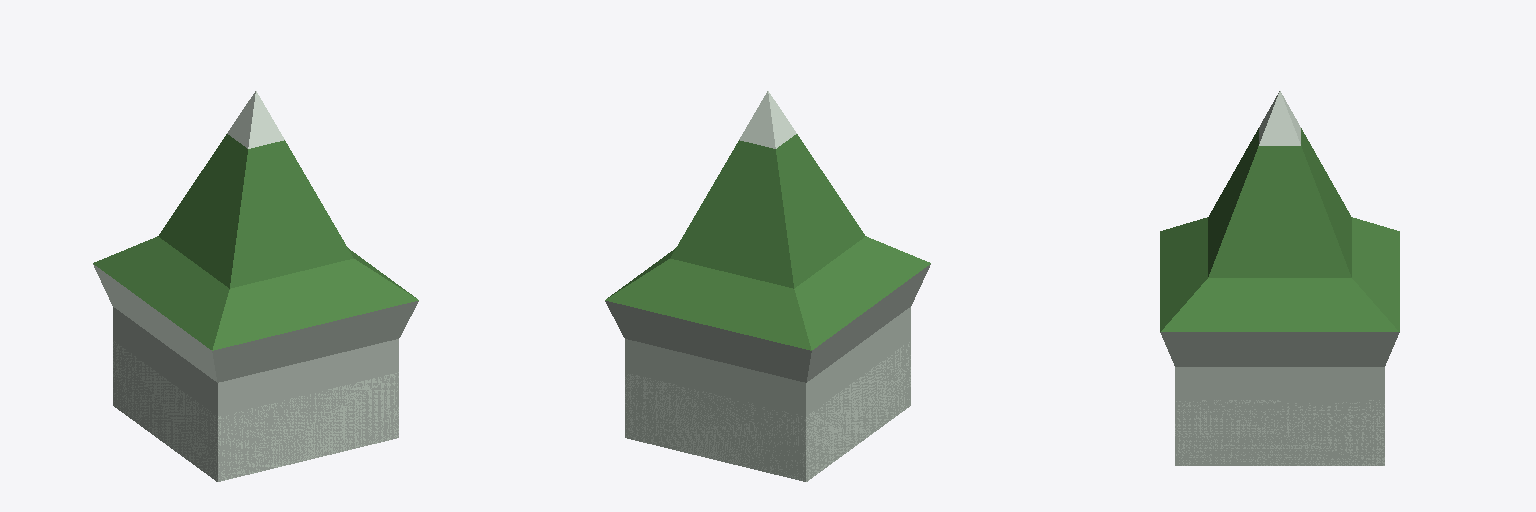
The model's file is tile_022.obj.
3 views of the same model, side by side, from view 1: azimuth 30°, elevation 25°; view 2: azimuth 150°, elevation 25°; view 3: azimuth 270°, elevation 25° (orthographic).
Parts seen in each view (by area): view 1: tile_022; view 2: tile_022; view 3: tile_022.
Part boxes in pixels (bbox=[...]): tile_022: bbox=[93, 91, 418, 481]; tile_022: bbox=[605, 91, 930, 481]; tile_022: bbox=[1160, 91, 1399, 465].
Size of the model in its own units: 0.6727 by 1.03 by 0.6727.